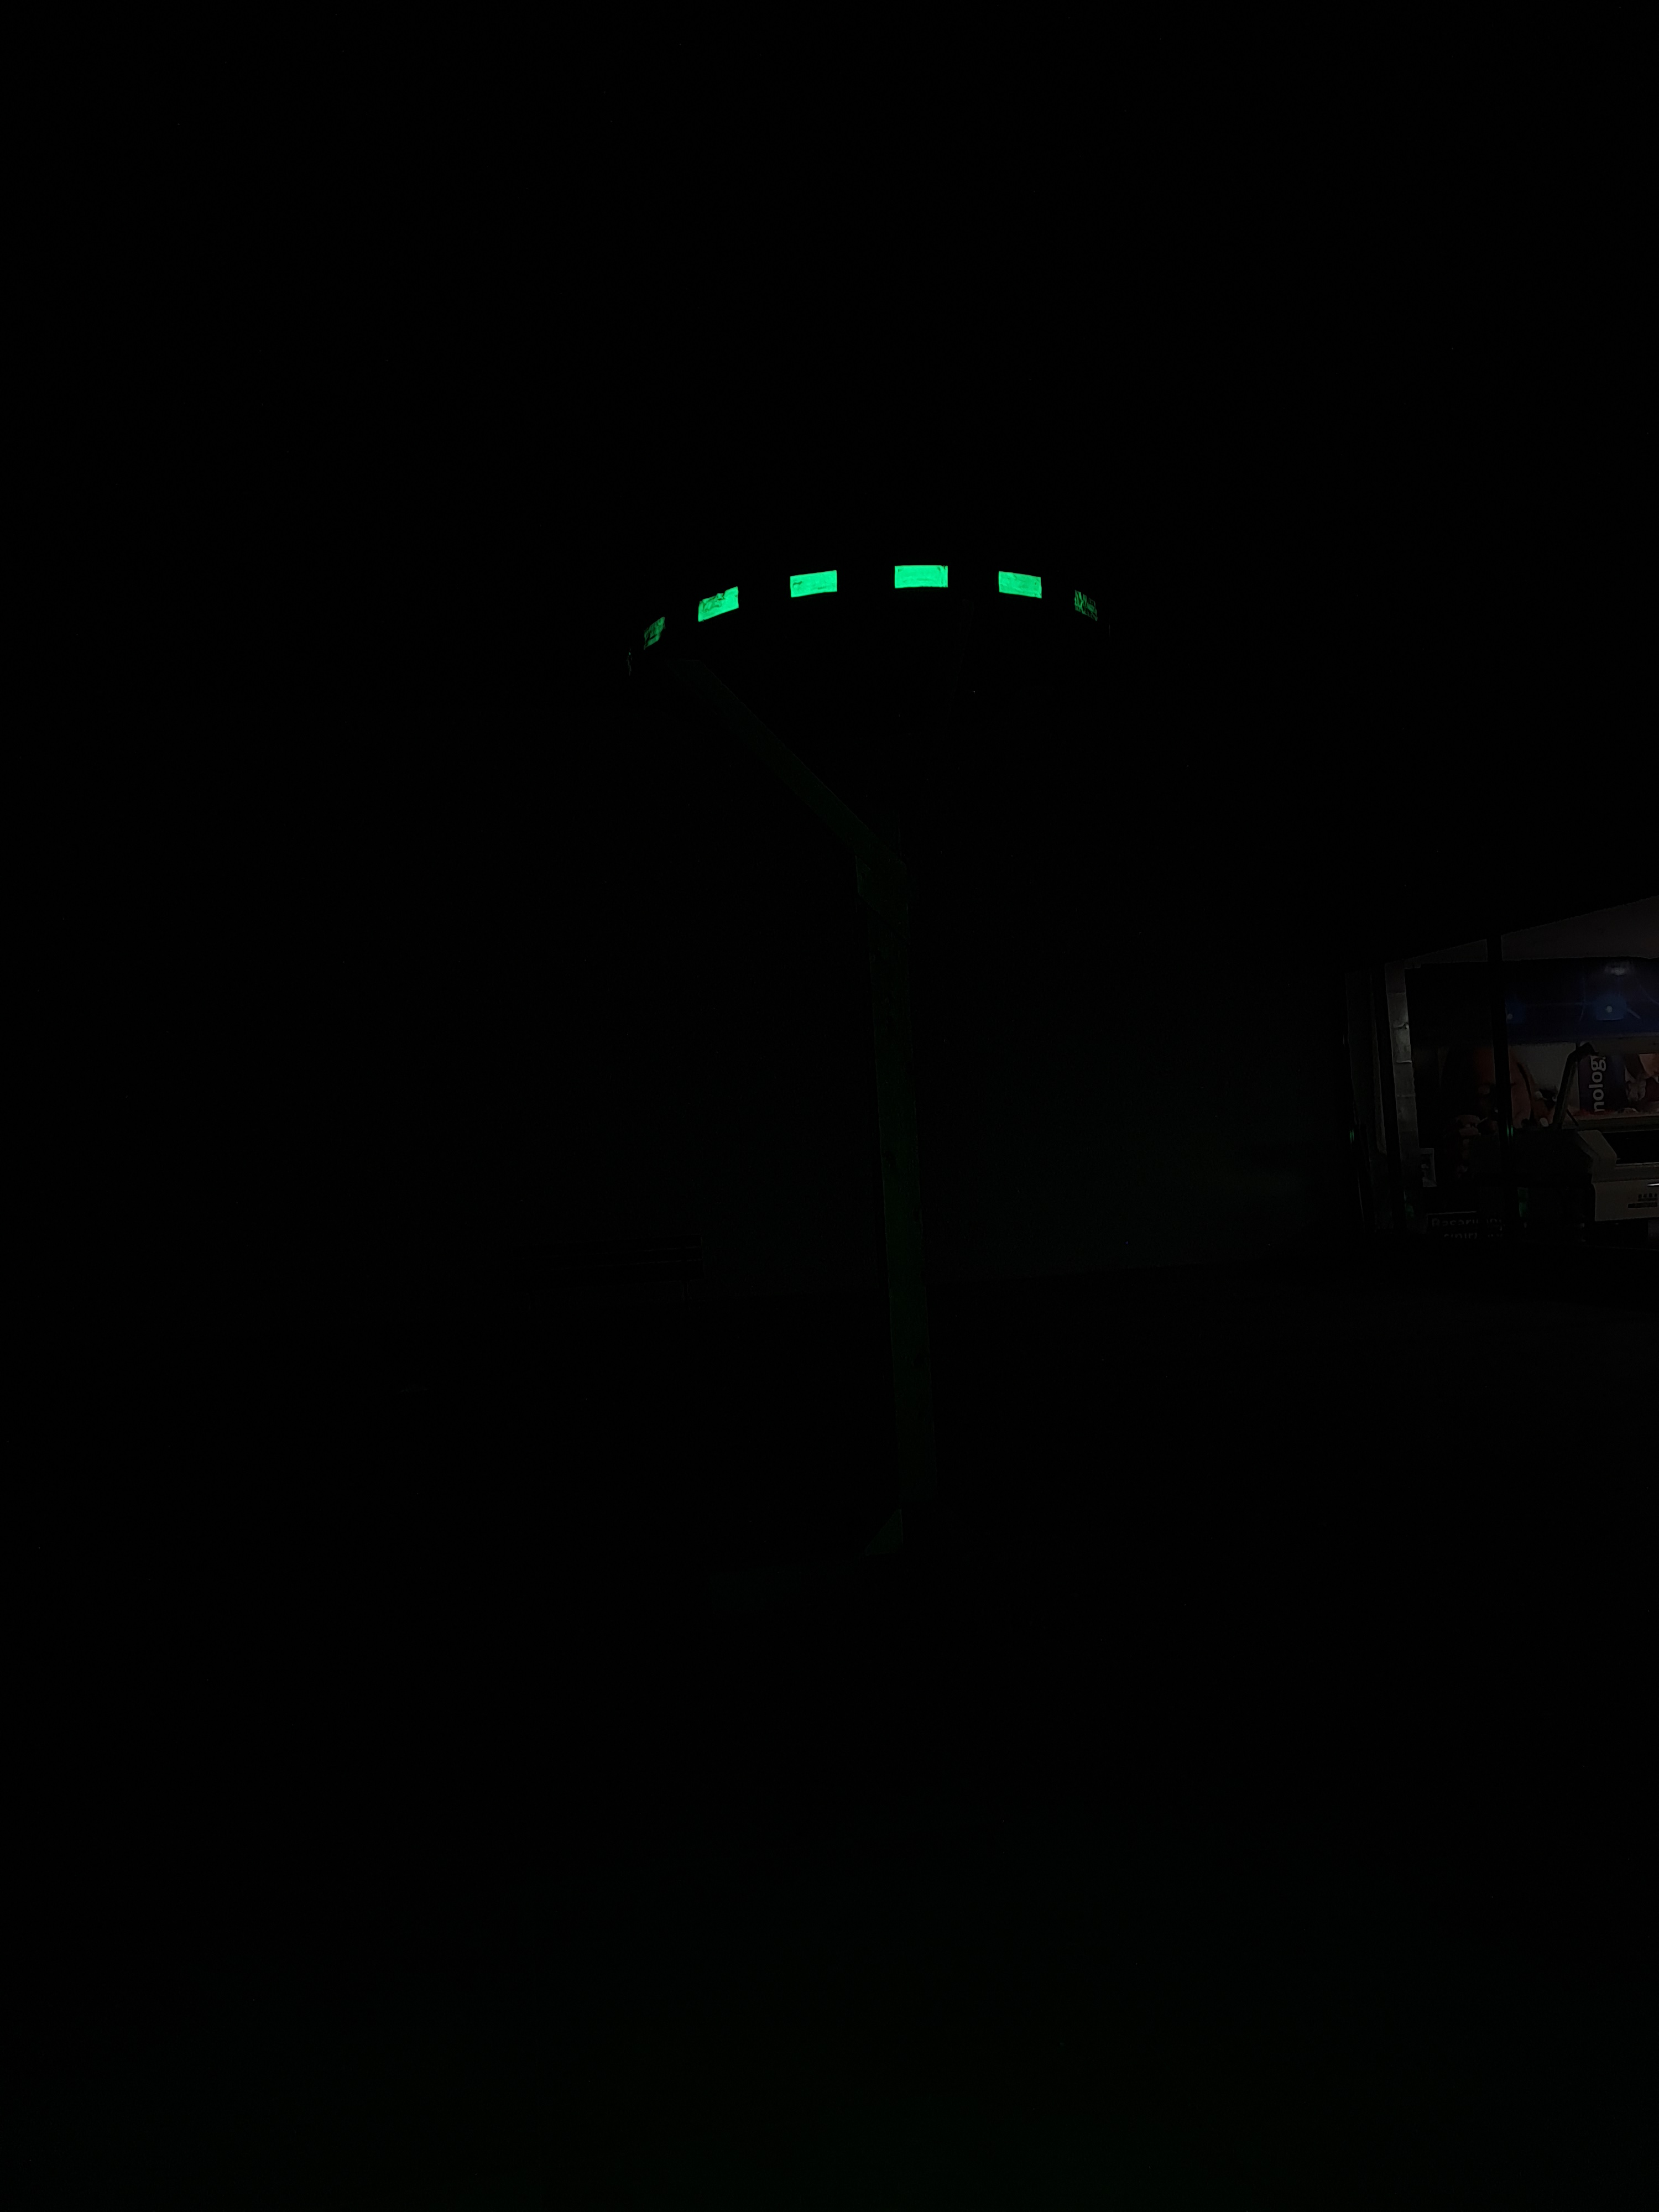hoop: (592, 536, 1140, 698)
